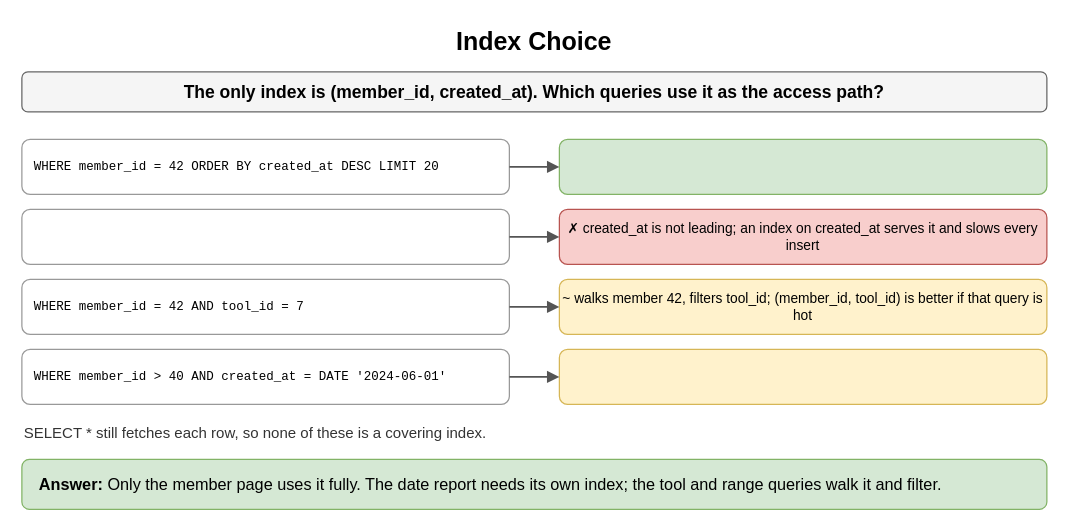
Some shapes in this 1069 by 531 pixel diagram are drawn without their labels. The shapes that lost their labels are listed below. From the top down, each one's box as (x1, y1, x2, y2) in pixels, then its label:
(558, 138, 1047, 194): ✓ uses it: equality, then the sort
(21, 208, 509, 264): WHERE created_at > DATE '2024-06-01'
(558, 348, 1047, 404): ~ walks the member range, then filters the date (not one contiguous step)
